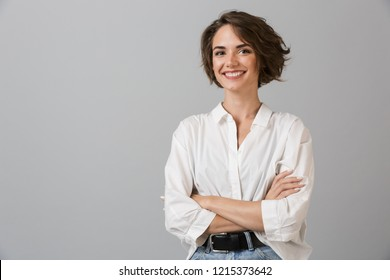Without Helmet: (200, 10, 286, 104)
